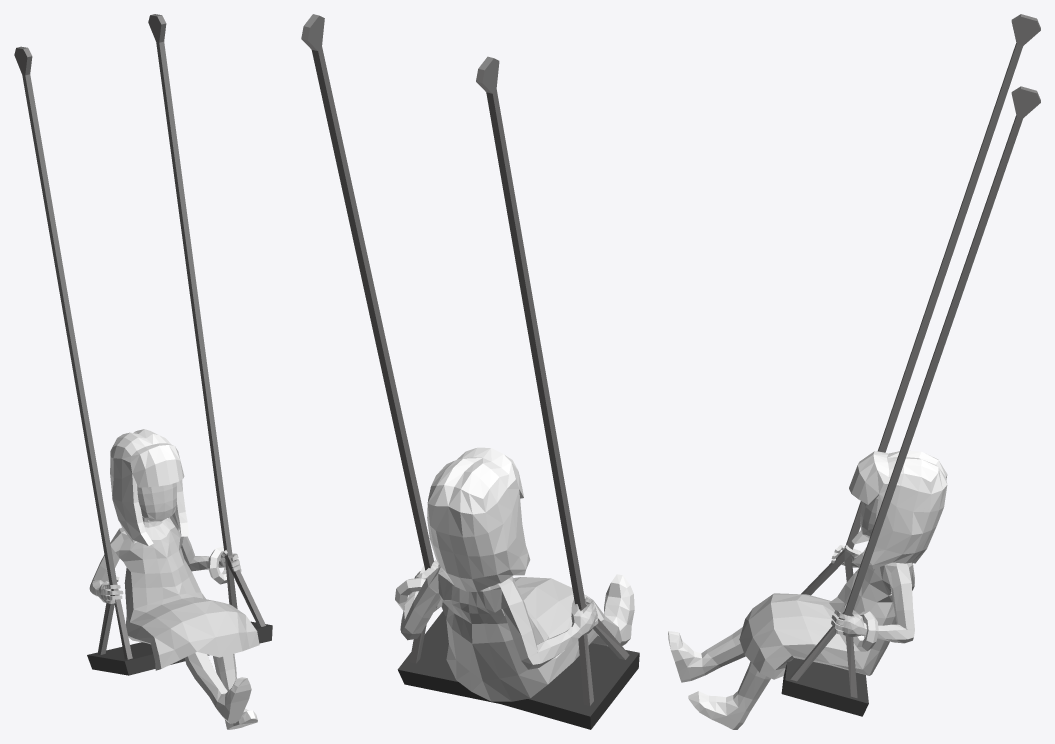
File: Cutscene01.FBX
The picture shows the model from 3 angles, left to right: view 1: azimuth 30°, elevation 25°; view 2: azimuth 150°, elevation 25°; view 3: azimuth 270°, elevation 25°; orthographic projection. The views are drawn at different scales.
Visible parts, largest first — view 1: scene_01; view 2: scene_01; view 3: scene_01.
Boxes of the visible parts, left/top/right/bottom form: scene_01: left=14, top=14, right=272, bottom=729; scene_01: left=301, top=14, right=639, bottom=729; scene_01: left=668, top=14, right=1040, bottom=729.
Size of the model in its own units: 0.6226 by 1.23 by 2.44.
Materials: 2 (2 with a texture image).
